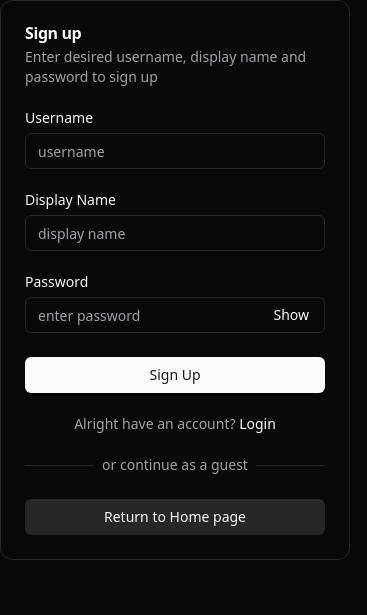
displays a fallback error message if API returns no error message and error has no message of its own
# Simulate user input
Type "testuser" into the field labelled "Username".
click(175, 151); type("testuser")  # box [25,133,325,169]
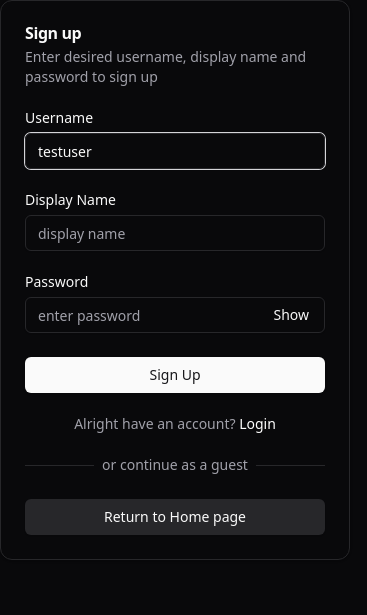
Type "Test User" into the field labelled "Display Name".
click(175, 233); type("Test User")  # box [25,215,325,251]
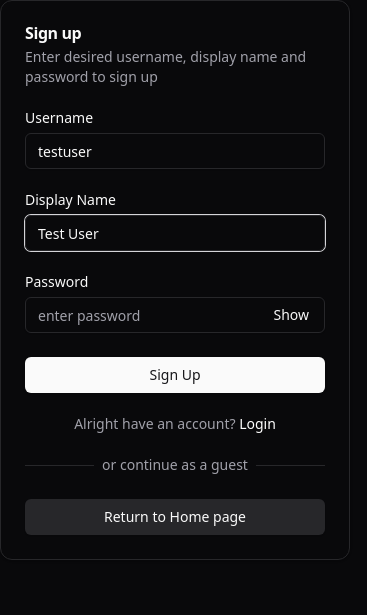
Type "password123" into the password field labelled "Password".
click(175, 315); type("password123")  # box [25,297,325,333]
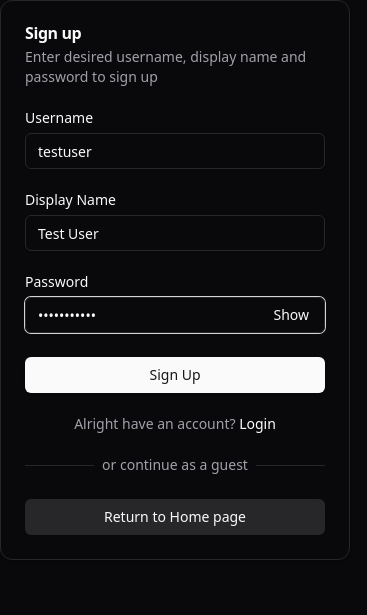
# Submit the form
Click the button "Sign Up".
click(175, 375)  # box [25,357,325,393]
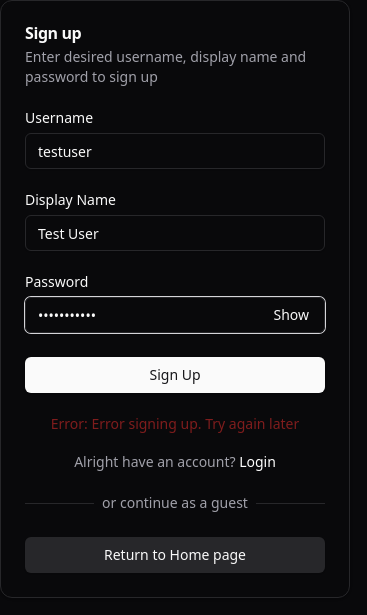
Expected: the text "Error: Error signing up. Try again later" is shown, [51,414,299,433]
